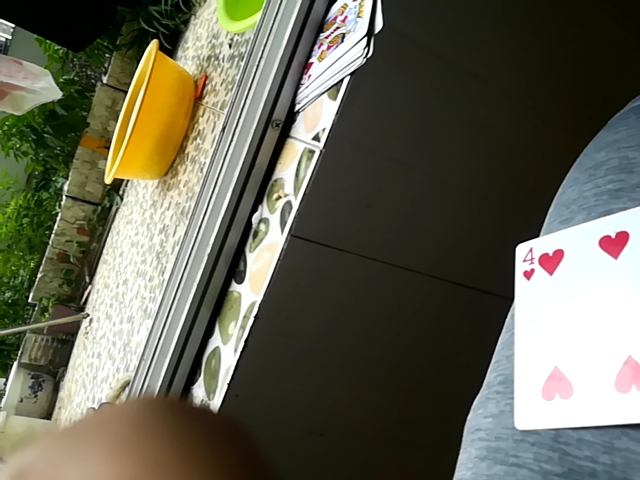hx 4: (505, 190, 638, 433)
